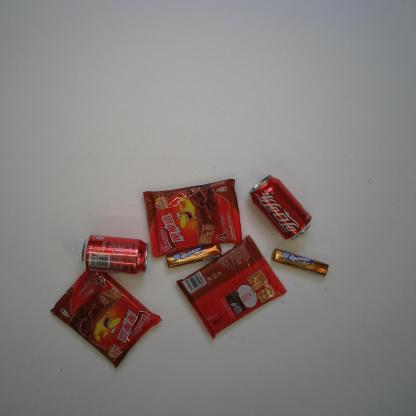Candy: (270, 248, 330, 277), (165, 243, 222, 269)
Dessert: (176, 234, 288, 340), (49, 268, 163, 372), (142, 178, 243, 258)
Drink: (248, 174, 313, 241), (80, 234, 150, 275)
